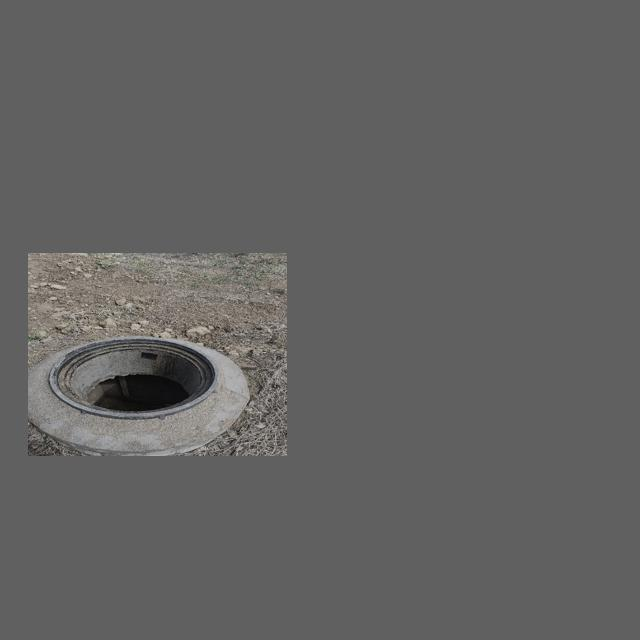lose: (49, 336, 218, 420)
